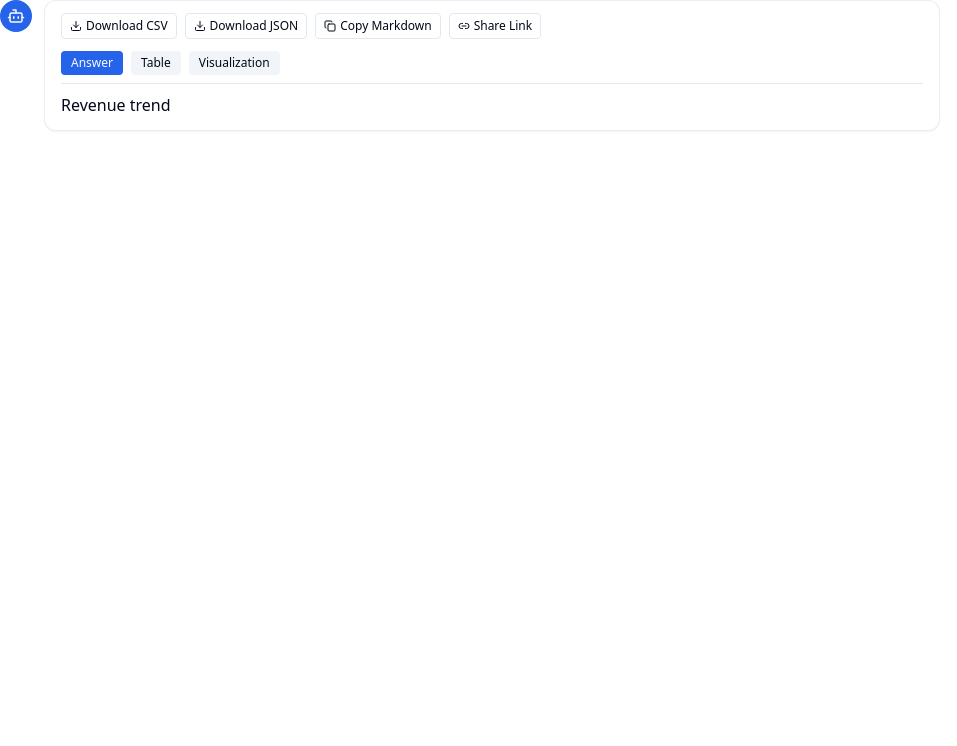
Message › shows line chart settings controls when toggled
Click the tab "Visualization" at (234, 63), box [189,51,280,75]
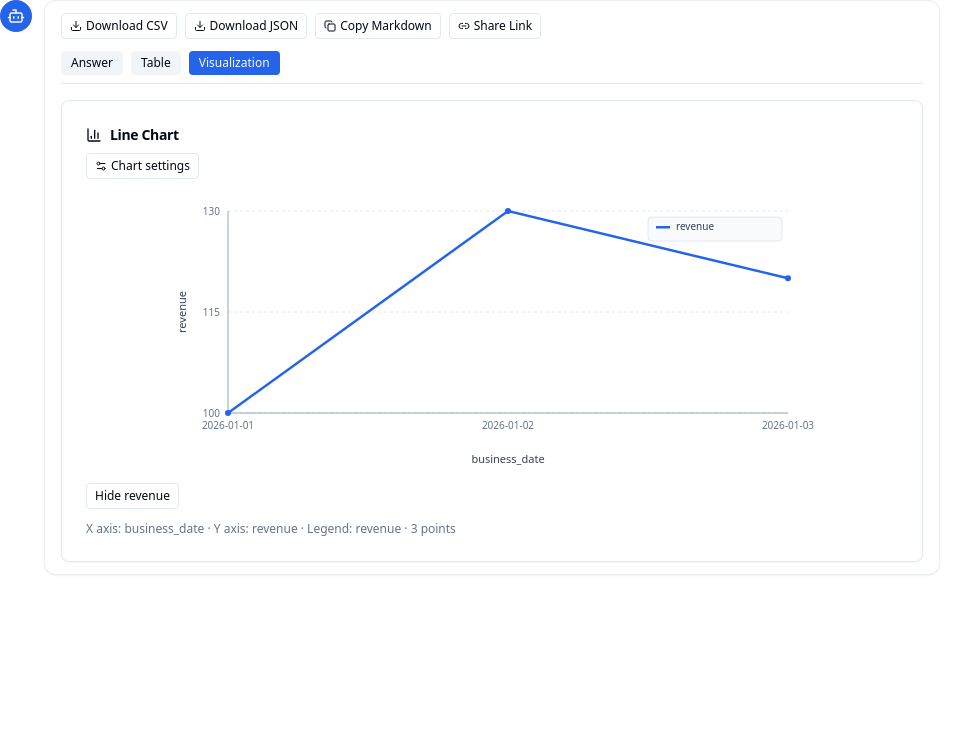
Click the button with aria-label "Toggle line chart settings" at (142, 166), box [86,153,199,179]
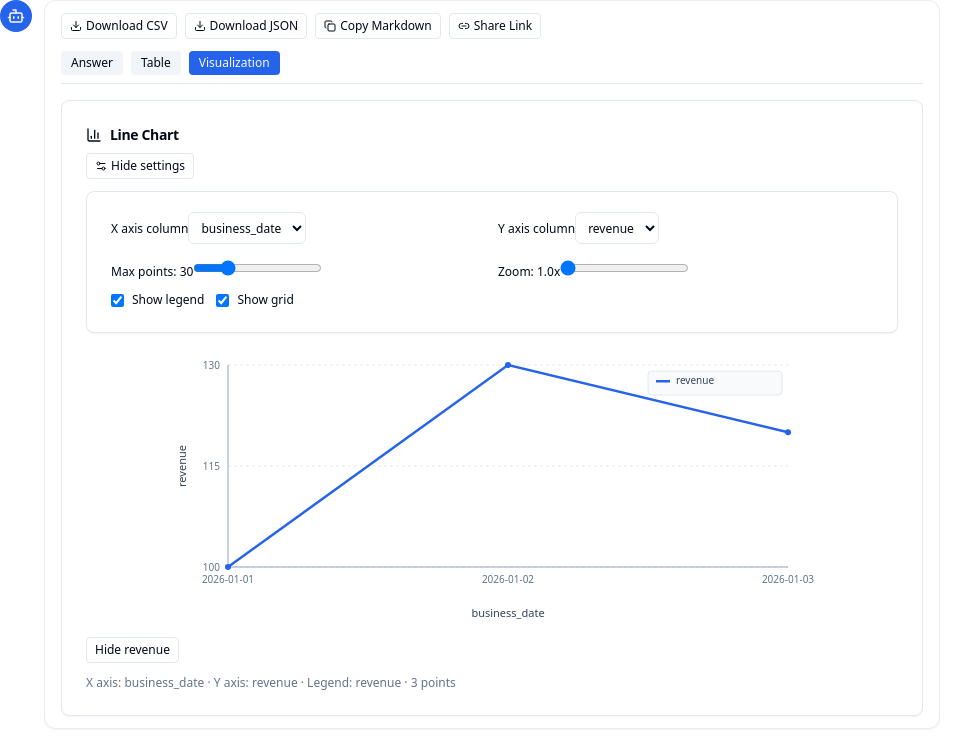
Expected: the dropdown named "Line chart X axis column" is shown, [188,212,306,244]
Expected: the dropdown named "Line chart Y axis column" is shown, [575,212,659,244]
Expected: the slider named "Line chart zoom" is shown, [560,260,689,276]
